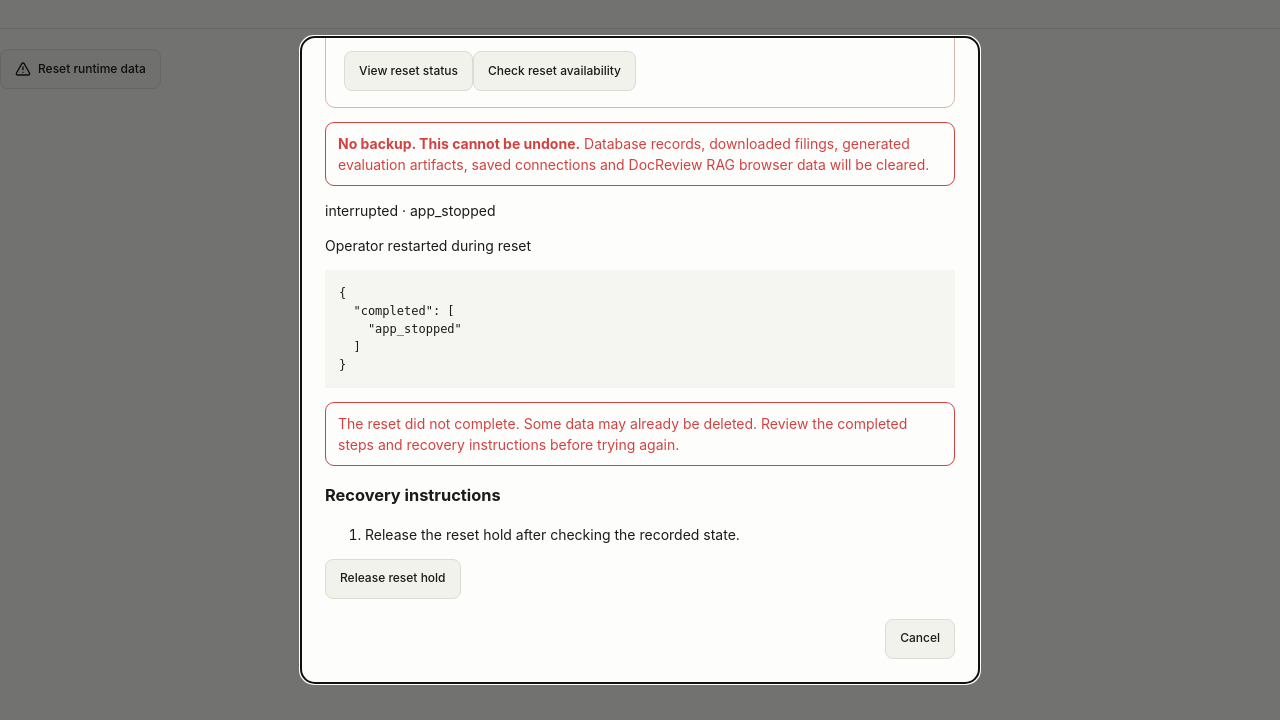
restores interrupted partial status after remount and releases a hold only on explicit action
(page scrolled)
Expected: the dialog is shown, top-left (300, 36), bottom-right (980, 684)
Expected: the text "Operator restarted during reset" is shown, top-left (325, 237), bottom-right (531, 254)
Click the button "Release reset hold" at (393, 578), box top-left (325, 558), bottom-right (460, 598)
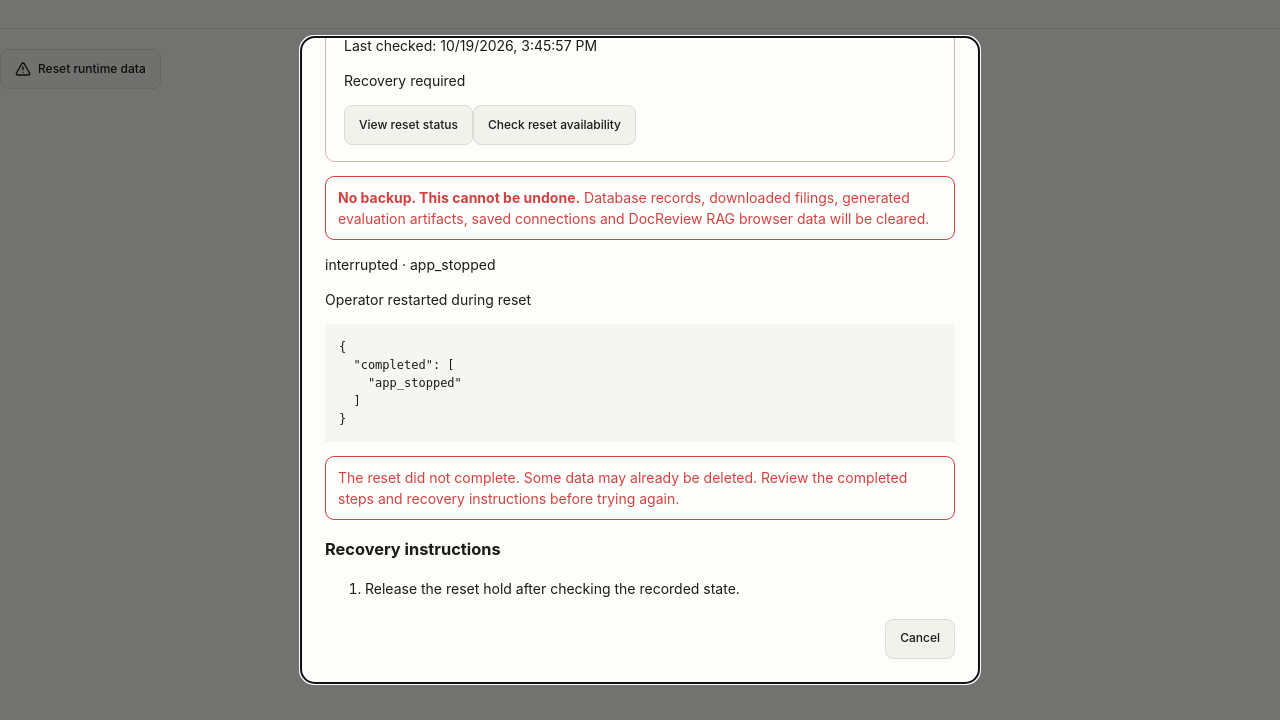
Expected: the button "Release reset hold" is gone
